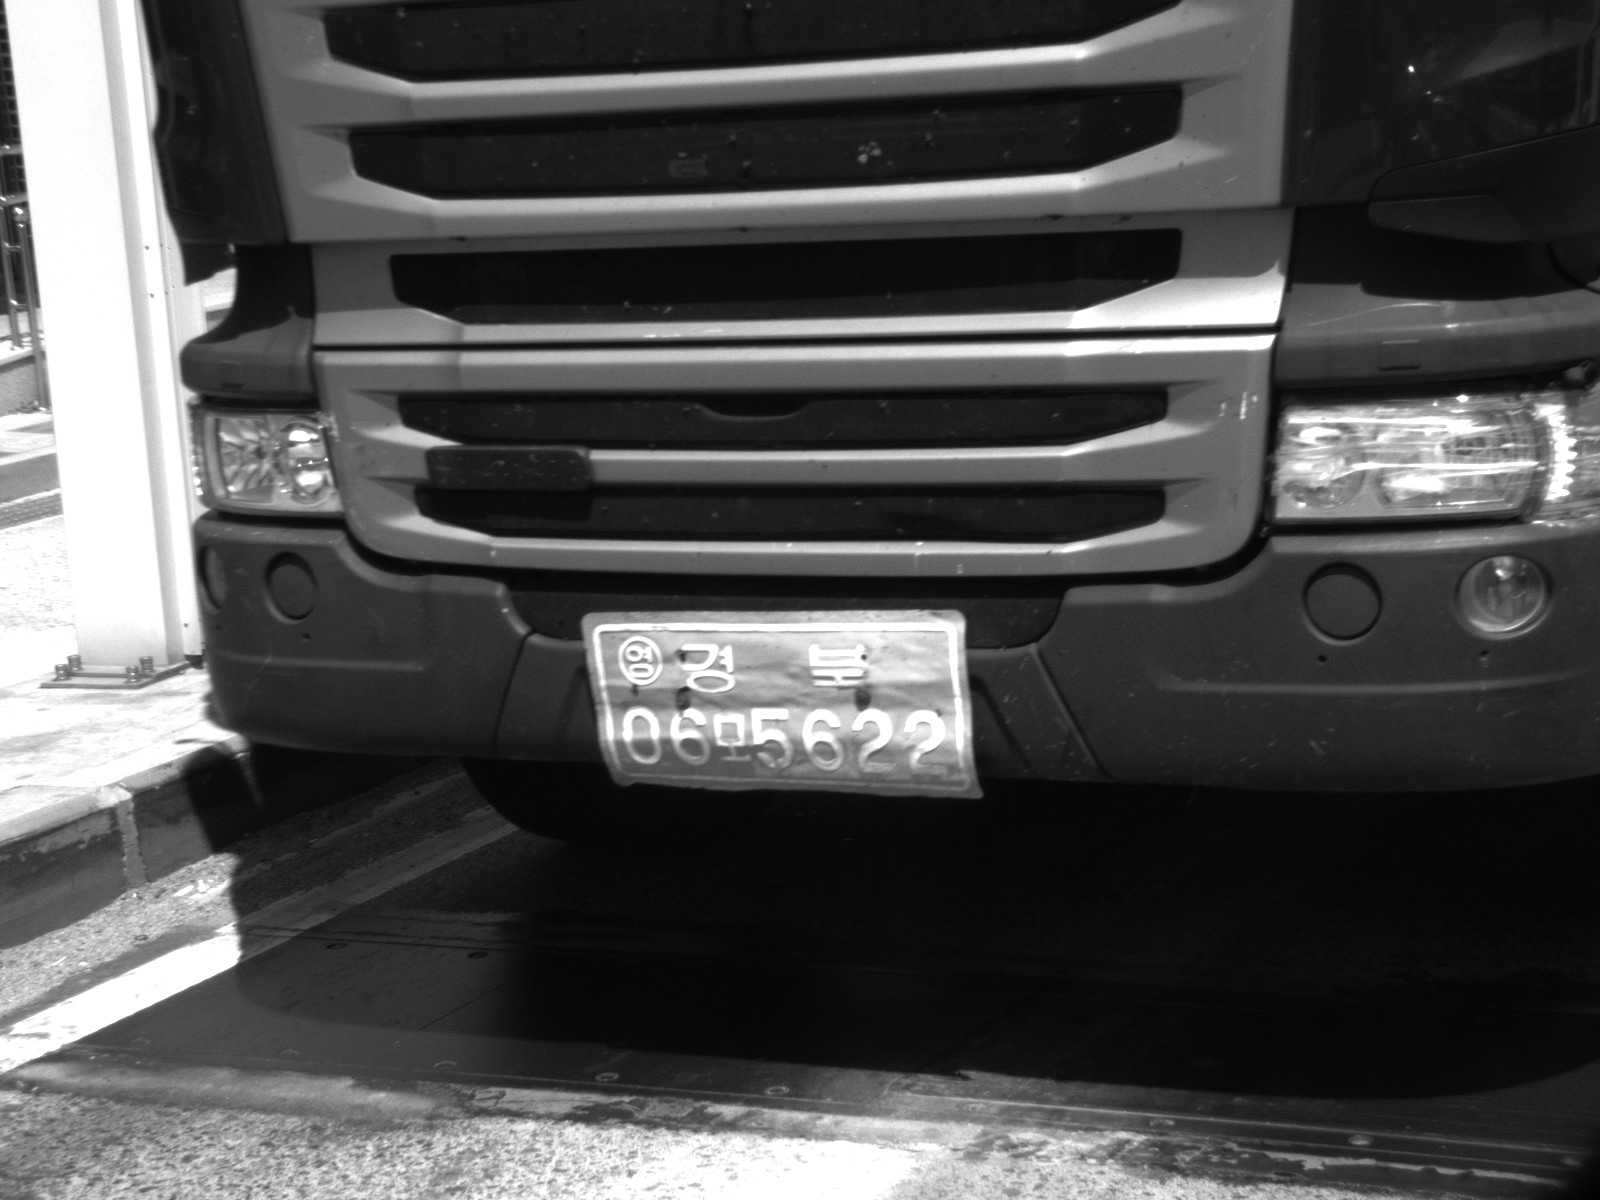car: (131, 2, 1600, 840)
plate: (575, 607, 984, 802)
